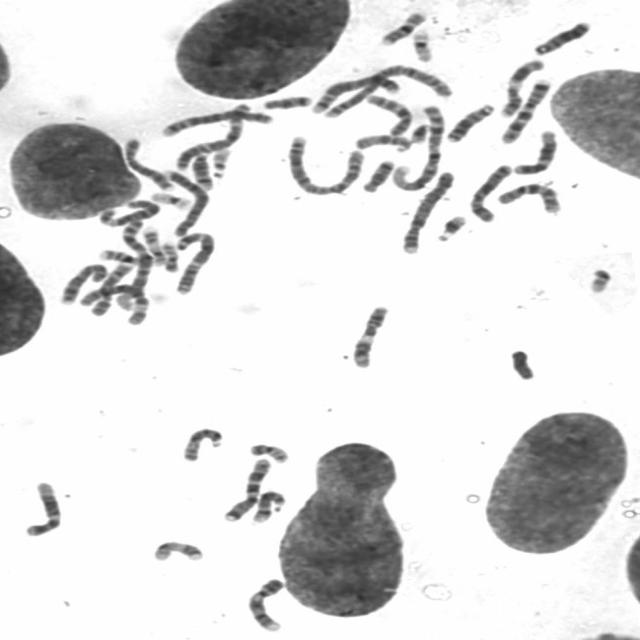A1: (386, 99, 446, 192), (115, 218, 163, 311)
A2: (310, 58, 456, 118), (281, 130, 368, 197)
A3: (168, 100, 254, 172), (168, 227, 219, 295)
B4: (394, 166, 456, 255), (157, 163, 213, 238)
B5: (307, 70, 402, 116), (154, 105, 276, 138)
C10: (491, 177, 564, 215), (359, 89, 414, 137)
C11: (494, 53, 547, 118), (345, 300, 392, 369)
C12: (18, 476, 64, 537), (508, 125, 560, 176)
C6: (71, 278, 152, 326), (92, 194, 162, 228)
C7: (494, 74, 553, 145), (216, 452, 273, 522)
C8: (116, 132, 176, 192), (54, 258, 110, 306)
C9: (90, 257, 136, 318), (241, 574, 287, 634)
D13: (526, 15, 594, 56), (438, 98, 497, 144)
D14: (246, 486, 289, 523), (185, 148, 215, 191)
D15: (174, 422, 226, 462), (348, 128, 415, 153)
E16: (374, 7, 430, 46), (92, 244, 146, 265)
E17: (146, 535, 206, 563), (137, 222, 168, 266)
E18: (355, 155, 397, 193), (258, 90, 314, 111)
F19: (405, 24, 436, 62), (144, 187, 194, 210)
F20: (242, 438, 292, 464), (157, 237, 180, 274)
G21: (430, 210, 469, 242), (406, 118, 432, 144)
G22: (580, 263, 615, 295), (205, 143, 234, 180)
X: (462, 159, 515, 223)
Y: (503, 344, 538, 381)
